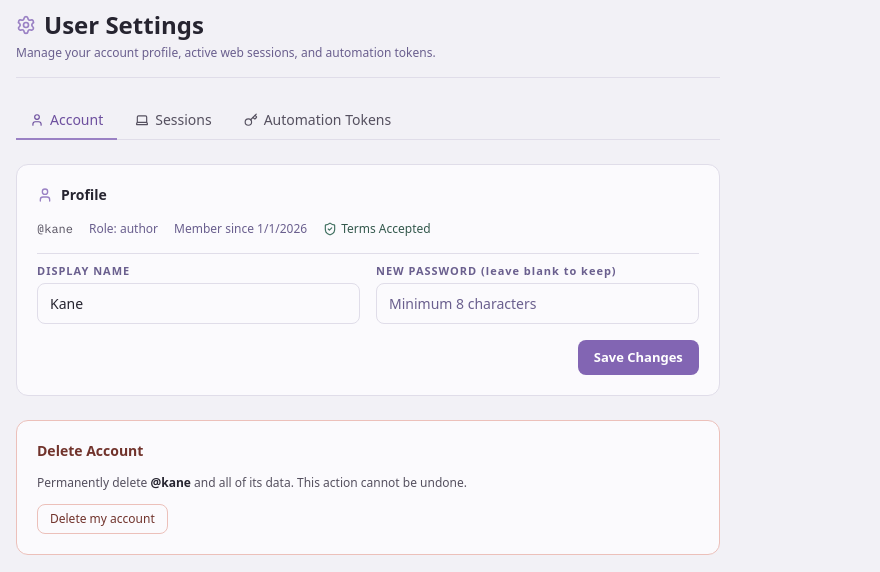
SettingsPage › saves profile changes
The image size is (880, 572).
Replace the text in the field with placeholder "e.g. Kane Marshall" with "Kane Marshall" at (198, 304), box [37,283,360,324]
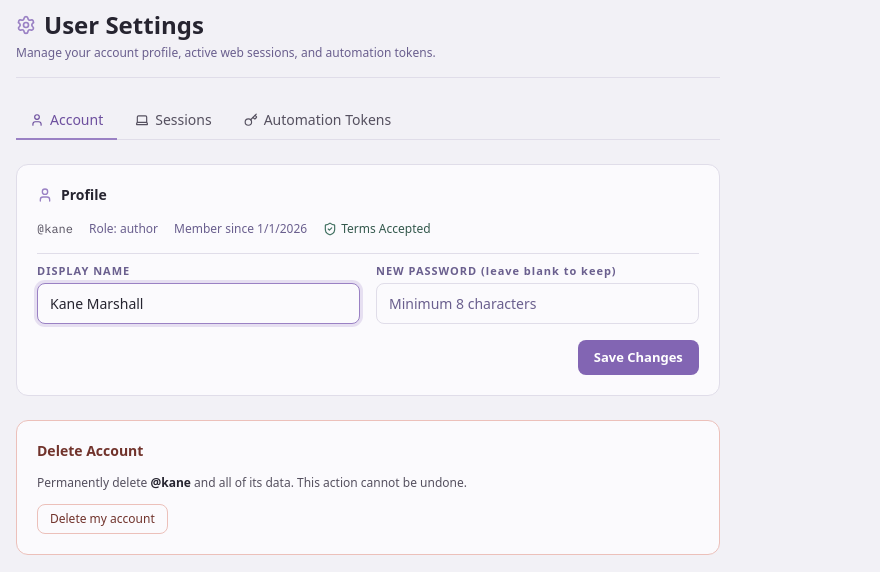
Click the button "Save Changes" at (638, 357), box [578,340,699,374]
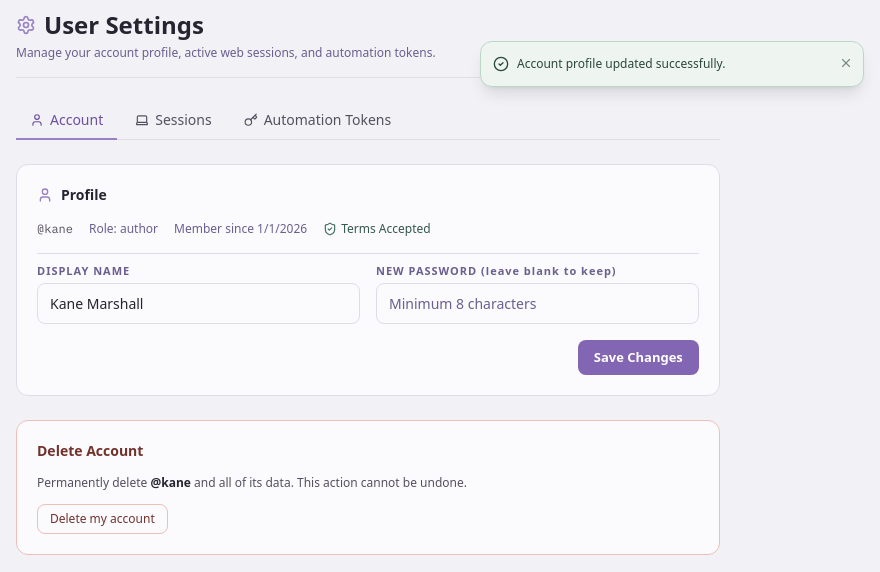
Now the text "Account profile updated successfully." is shown, box [517,55,725,72]
